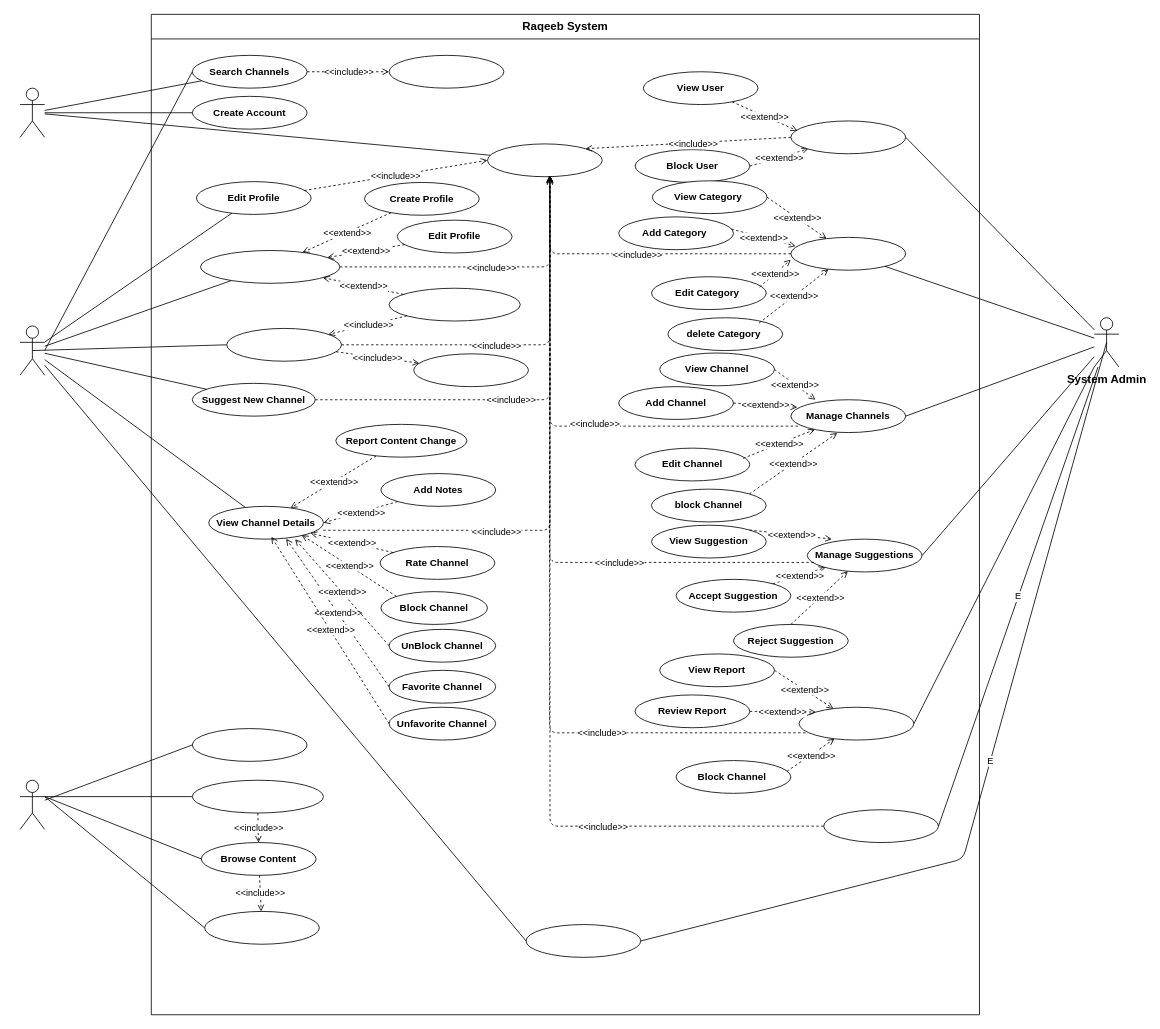
Image size: 1160x1029. Some labels were removed from this diagram. The centre of each missing label's shape, as x and y in pixels:
Access Child Profile: point 249,744
Child: point 32,804
Login: point 544,160
Logout: point 583,940
Manage Allowed Channels: point 454,304
Manage Categories: point 848,253
Manage Children Profiles: point 270,266
Manage Reports: point 856,723
Manage Users: point 848,137
Parent: point 32,350
Verify Channel (AI): point 284,344
View AI Results: point 470,370
View Allowed Channels: point 257,796
View Search Results: point 446,71
View Statistics: point 880,826
Visitor: point 32,112
Watch Videos: point 261,927
